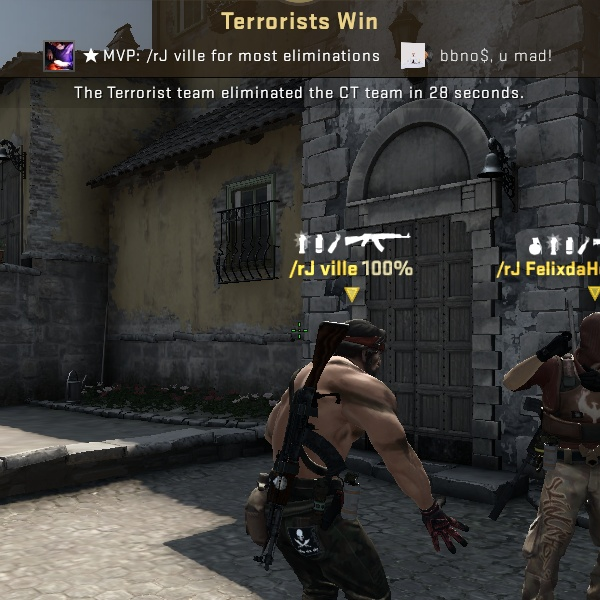t_body: (222, 310, 442, 588)
t_head: (313, 311, 396, 388), (557, 303, 598, 374)
